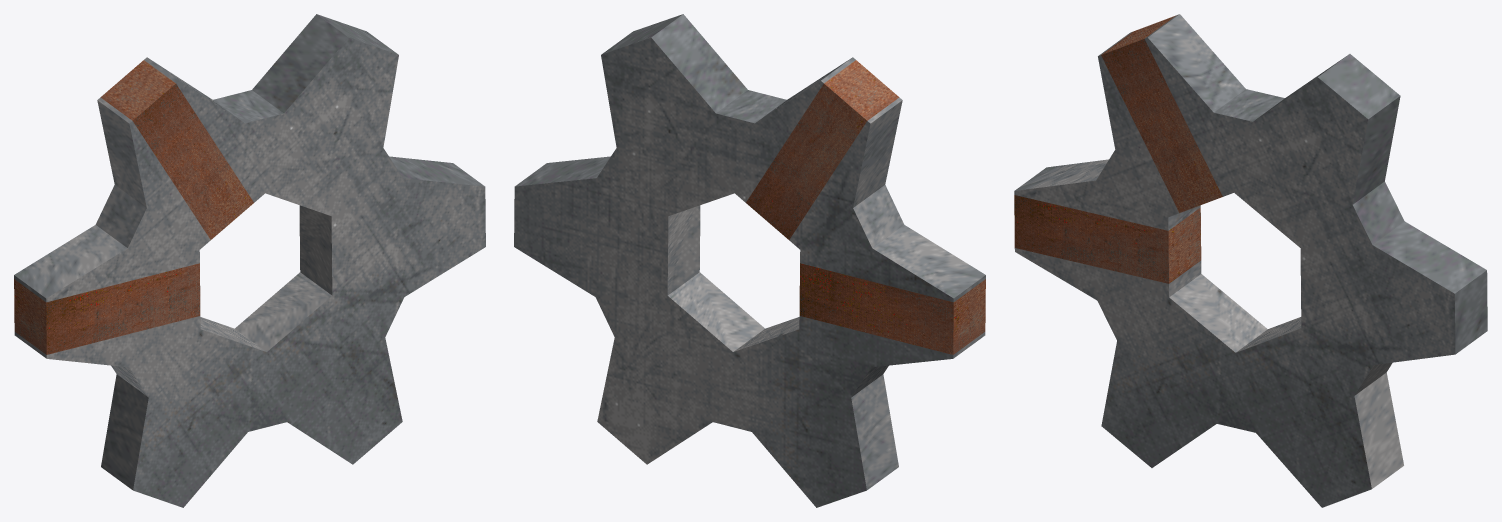
Rendered from Gear3.fbx.
3 renders of one model, left to right at view 1: azimuth 30°, elevation 25°; view 2: azimuth 150°, elevation 25°; view 3: azimuth 330°, elevation 25°, orthographic.
Visible parts, largest first — view 1: Gear3; view 2: Gear3; view 3: Gear3.
Part boxes in pixels (x1,y1,x2,y2): Gear3: [14, 14, 485, 507]; Gear3: [514, 14, 985, 507]; Gear3: [1014, 14, 1487, 507].
Size of the model in its own units: 184 by 172 by 23.35.
